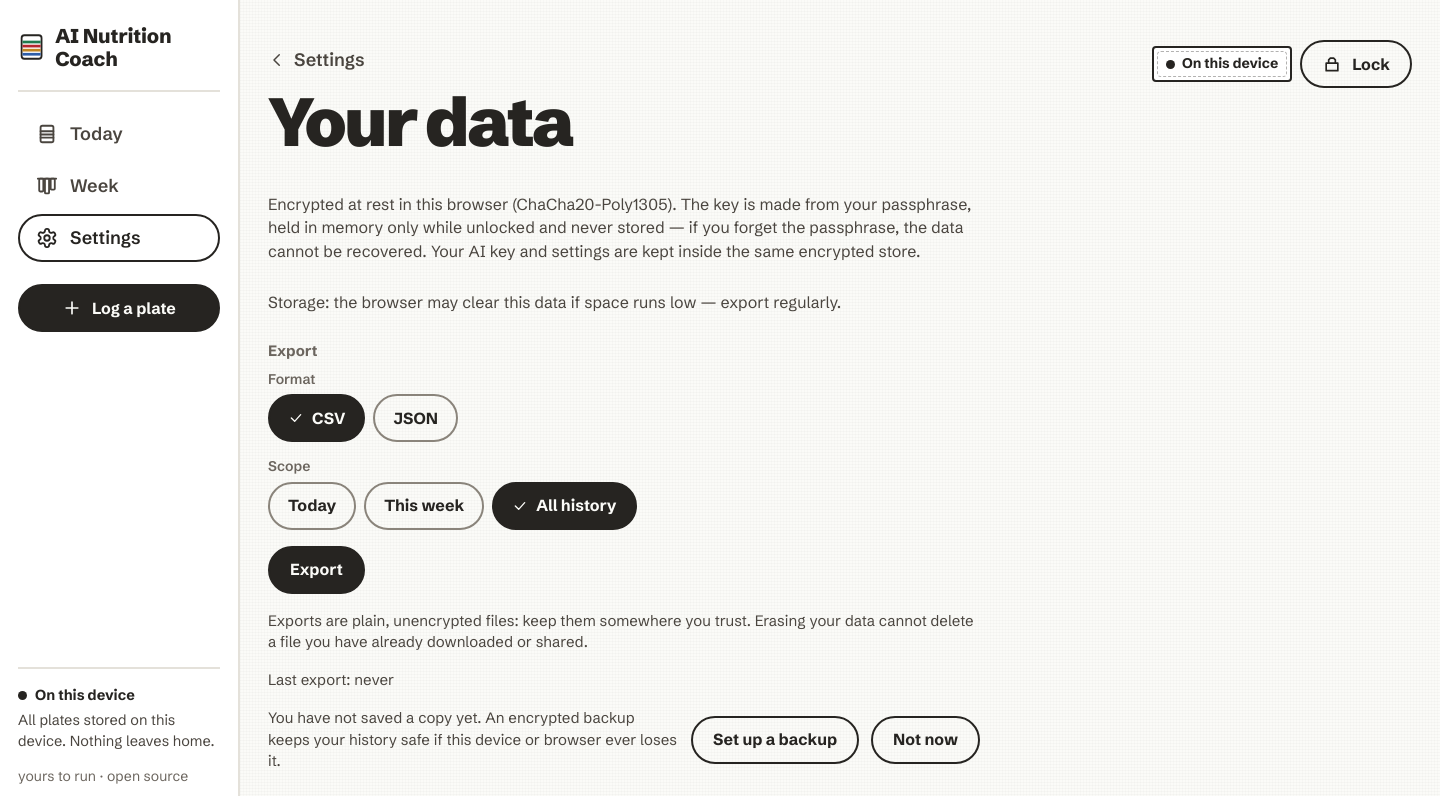
Scenario: YourDataScreen: last export and the quiet suggestion › "Not now" hides it and the dismissal is kept
Expected: the heading "Your data" is shown, [268,92,572,153]
Click the button "Not now".
click(926, 740)  # box [871,716,980,764]
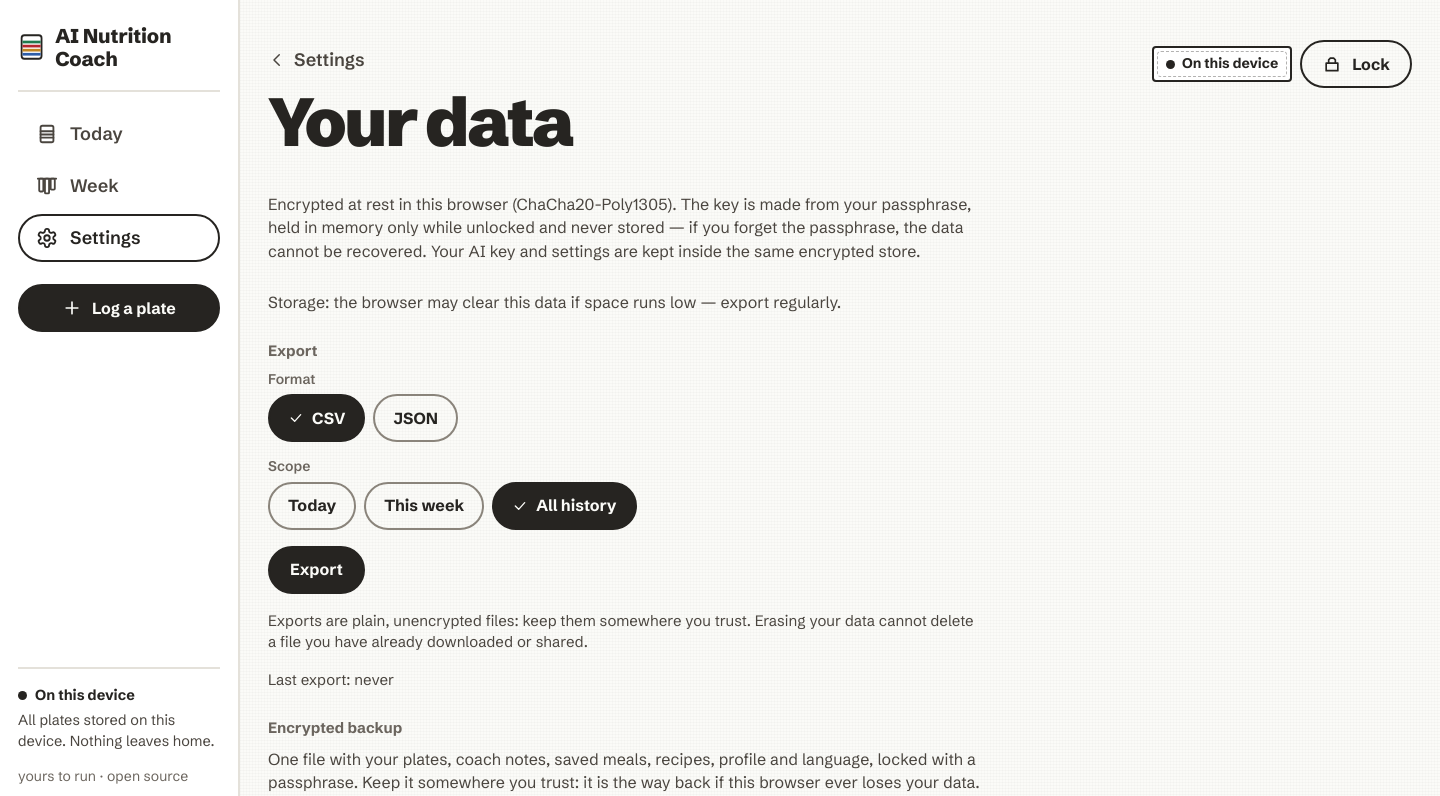
Now the button "Not now" is gone
